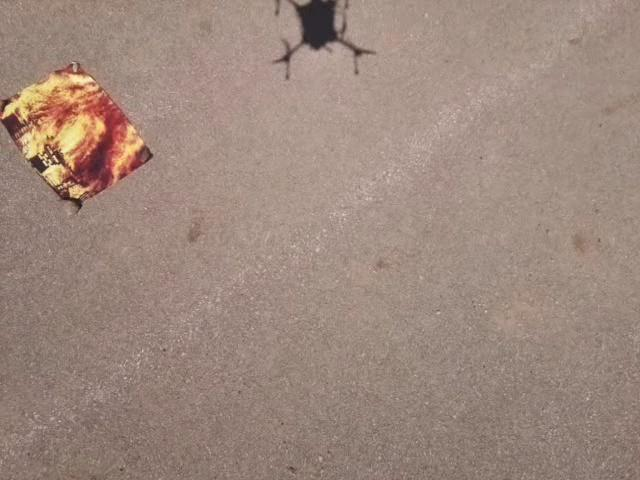fire-poster: (0, 59, 155, 214)
